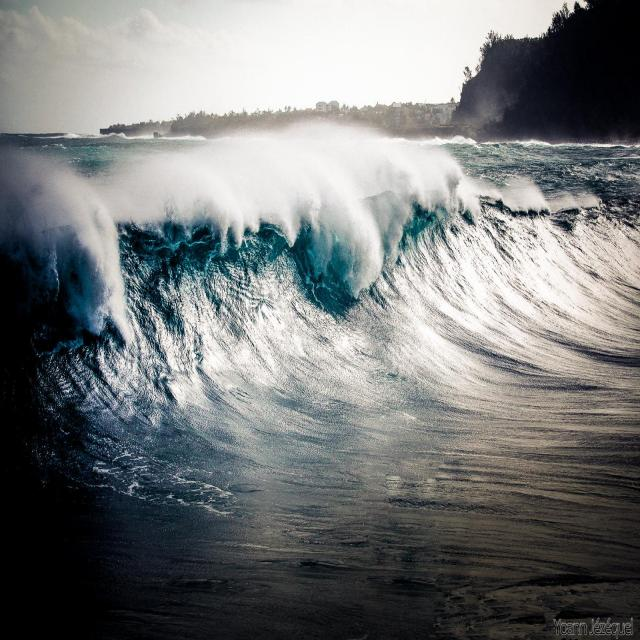eye: (242, 246, 351, 353)
